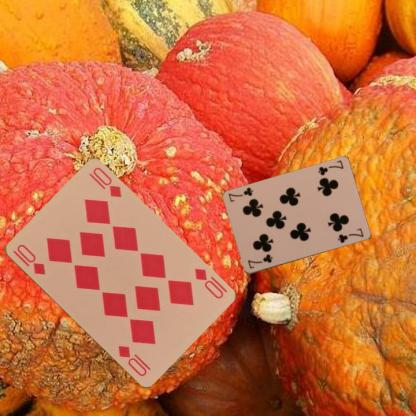10d: (10, 242, 47, 276), (191, 266, 228, 300)
7c: (315, 158, 344, 177), (245, 252, 274, 270)
